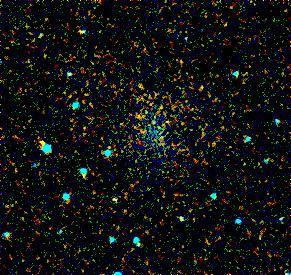star: (28, 129, 58, 159)
